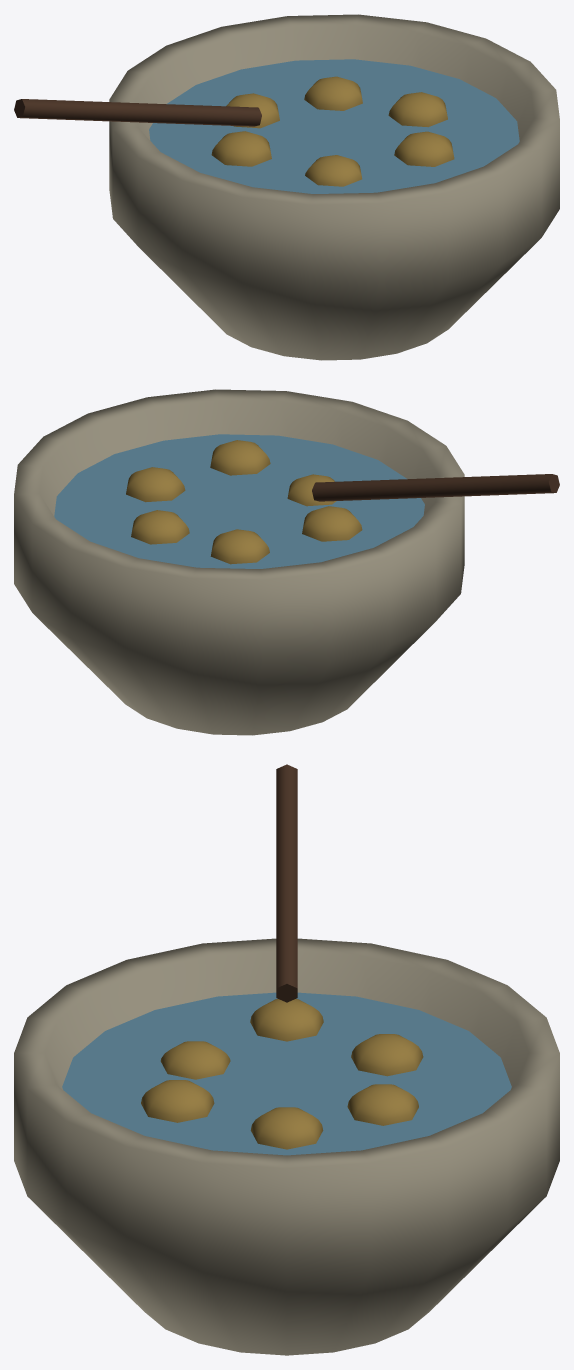
The model's file is mana_congee.obj.
3 views of the same model, one above another, from view 1: azimuth 30°, elevation 25°; view 2: azimuth 150°, elevation 25°; view 3: azimuth 270°, elevation 25° (orthographic). The views are drawn at different scales.
Visible parts, largest first — view 1: mana_congee; view 2: mana_congee; view 3: mana_congee.
Part boxes in pixels (<box>): mana_congee: <box>14,14,559,360</box>; mana_congee: <box>14,389,559,735</box>; mana_congee: <box>14,764,559,1355</box>.
Bounding box in the file's own units: 2.3 × 1.22 × 1.76.
